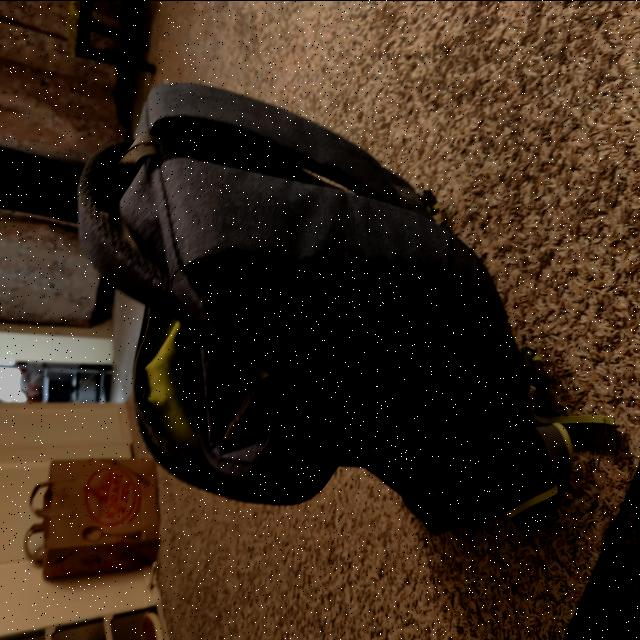bag: (69, 96, 521, 520)
